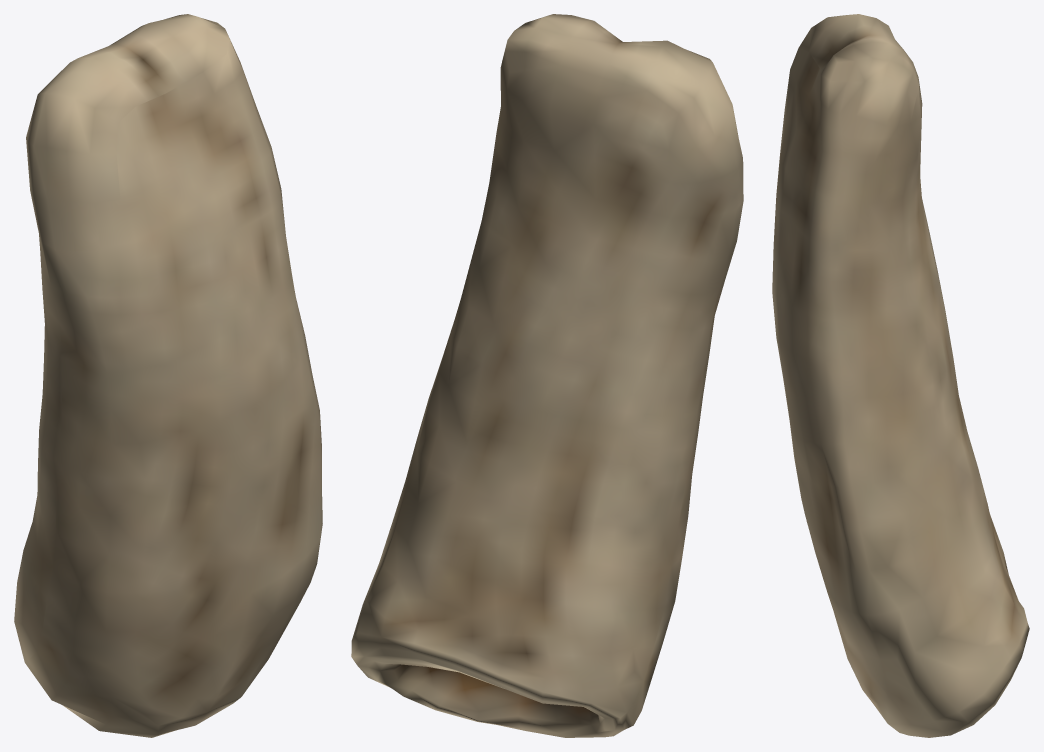
The model's file is Upper_Incisor3.glb.
3 views of the same model, side by side, from view 1: azimuth 30°, elevation 25°; view 2: azimuth 150°, elevation 25°; view 3: azimuth 270°, elevation 25° (orthographic). The views are drawn at different scales.
Visible parts, largest first — view 1: Upper_Incisor3.glb; view 2: Upper_Incisor3.glb; view 3: Upper_Incisor3.glb.
Part boxes in pixels (<box>): Upper_Incisor3.glb: <box>14,14,322,737</box>; Upper_Incisor3.glb: <box>351,14,743,737</box>; Upper_Incisor3.glb: <box>772,14,1029,737</box>.
Size of the model in its own units: 0.0155 by 0.0334 by 0.0118.
1 material, 1 textured.
